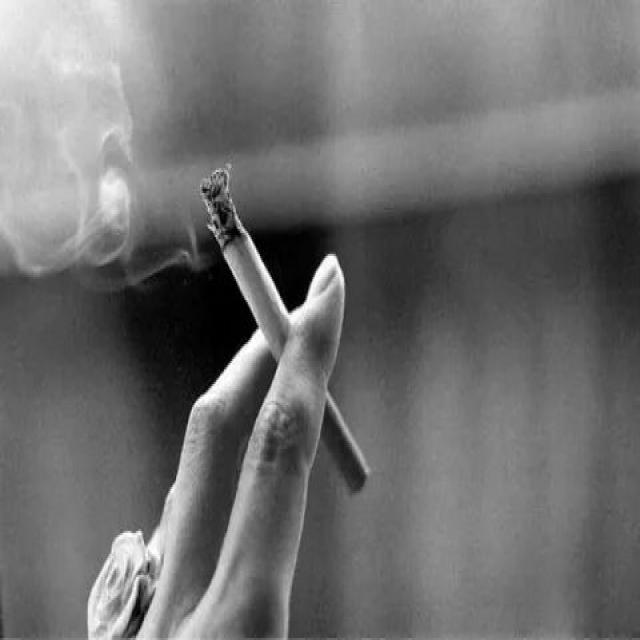cigarette: (200, 162, 373, 499)
